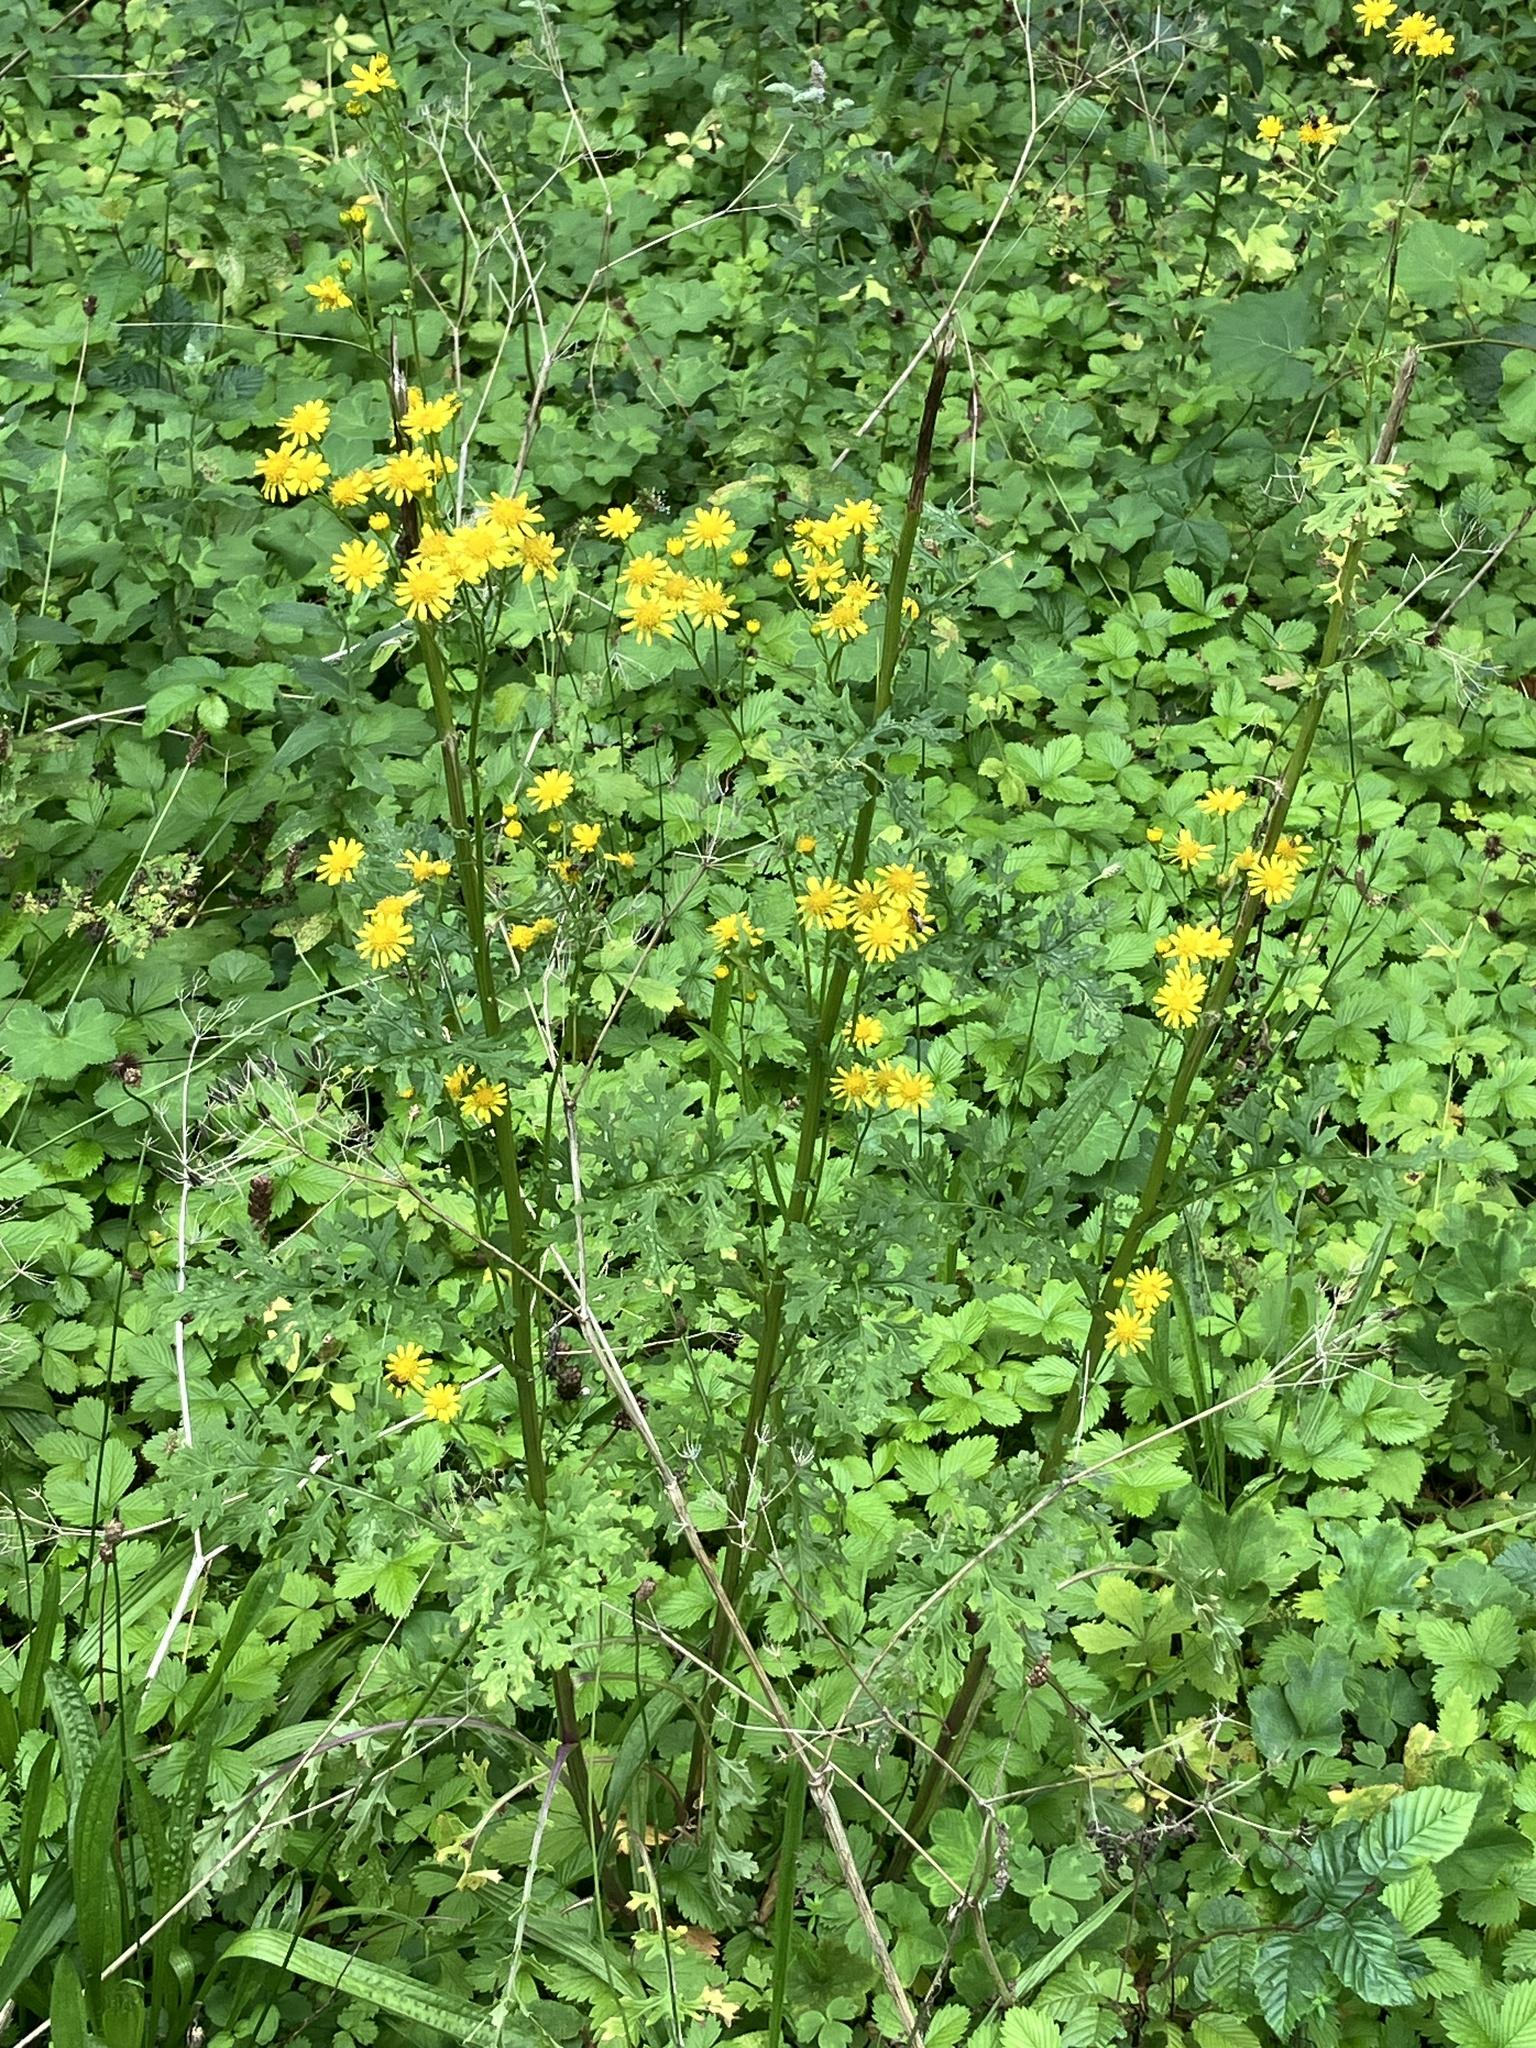Jacobaea vulgaris: (216, 6, 637, 2048), (607, 260, 1004, 2048), (954, 306, 1350, 2048)
